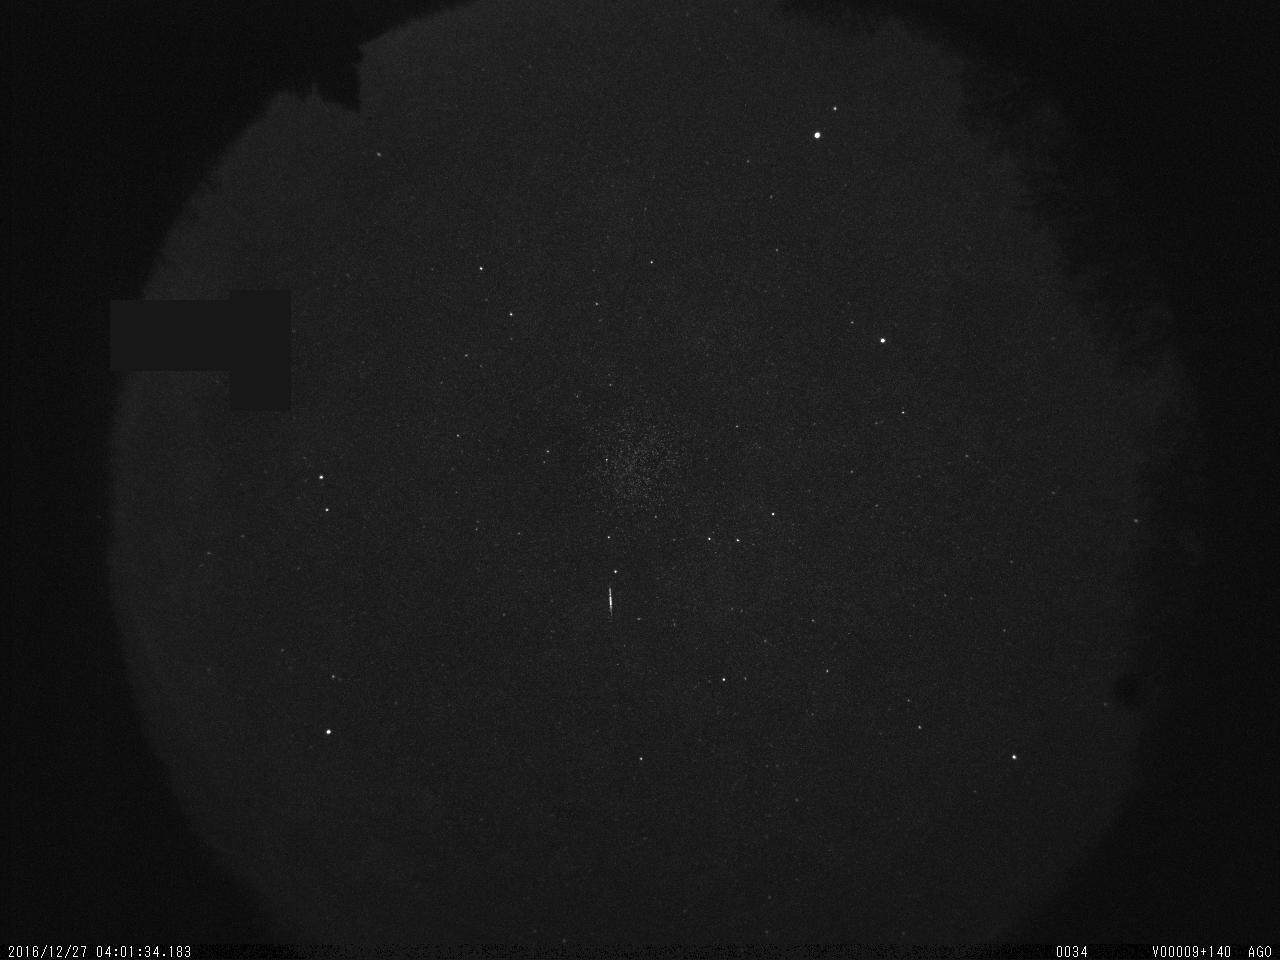meteor: (599, 578, 620, 630)
